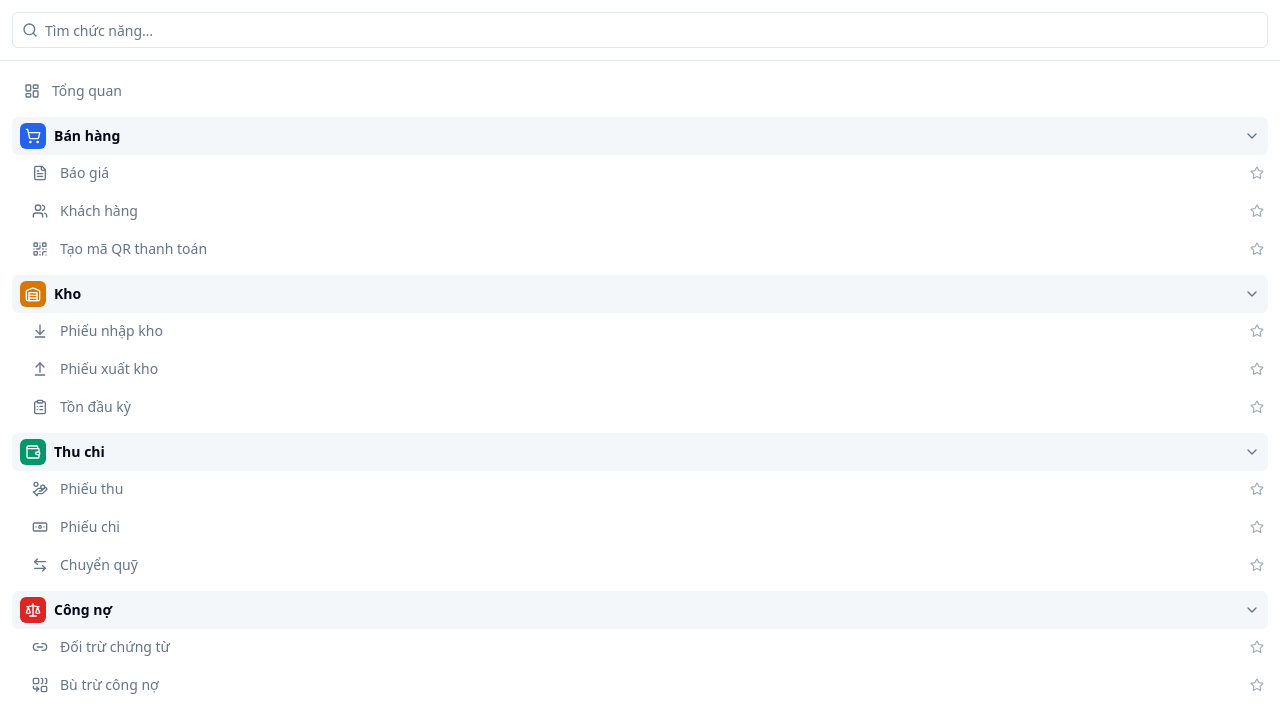
it: Sidebar search › opens collapsed groups that have results and shows their count
Step 1. Type "hang hoa" into the search field labelled "Tìm chức năng" → (640, 30), box [12, 12, 1268, 48]
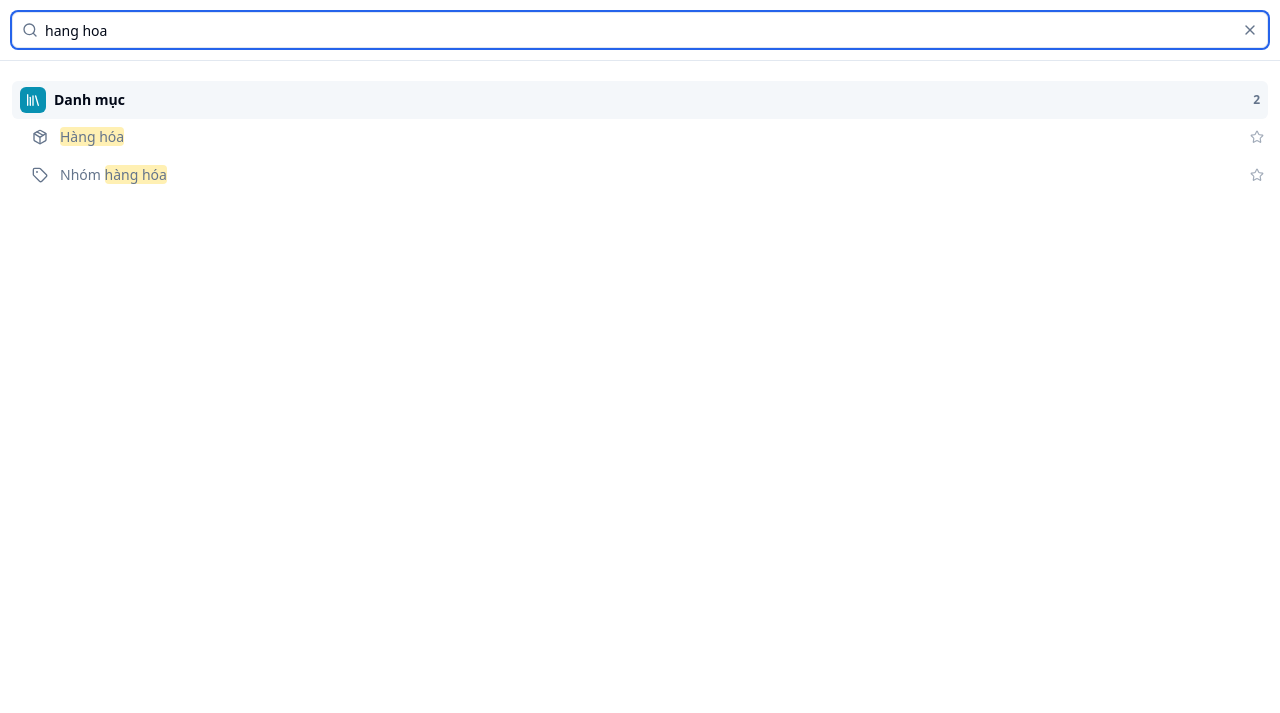
Check: the link "Hàng hóa" is shown, box [32, 127, 124, 146]
Check: the link "Nhóm hàng hóa" is shown, box [32, 165, 167, 184]
